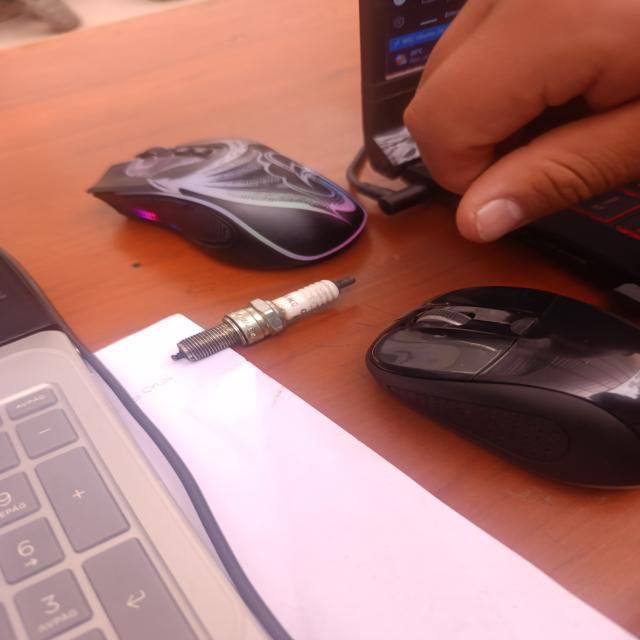Mause: (366, 286, 640, 488), (95, 139, 365, 258)
bujia: (171, 276, 355, 362)
